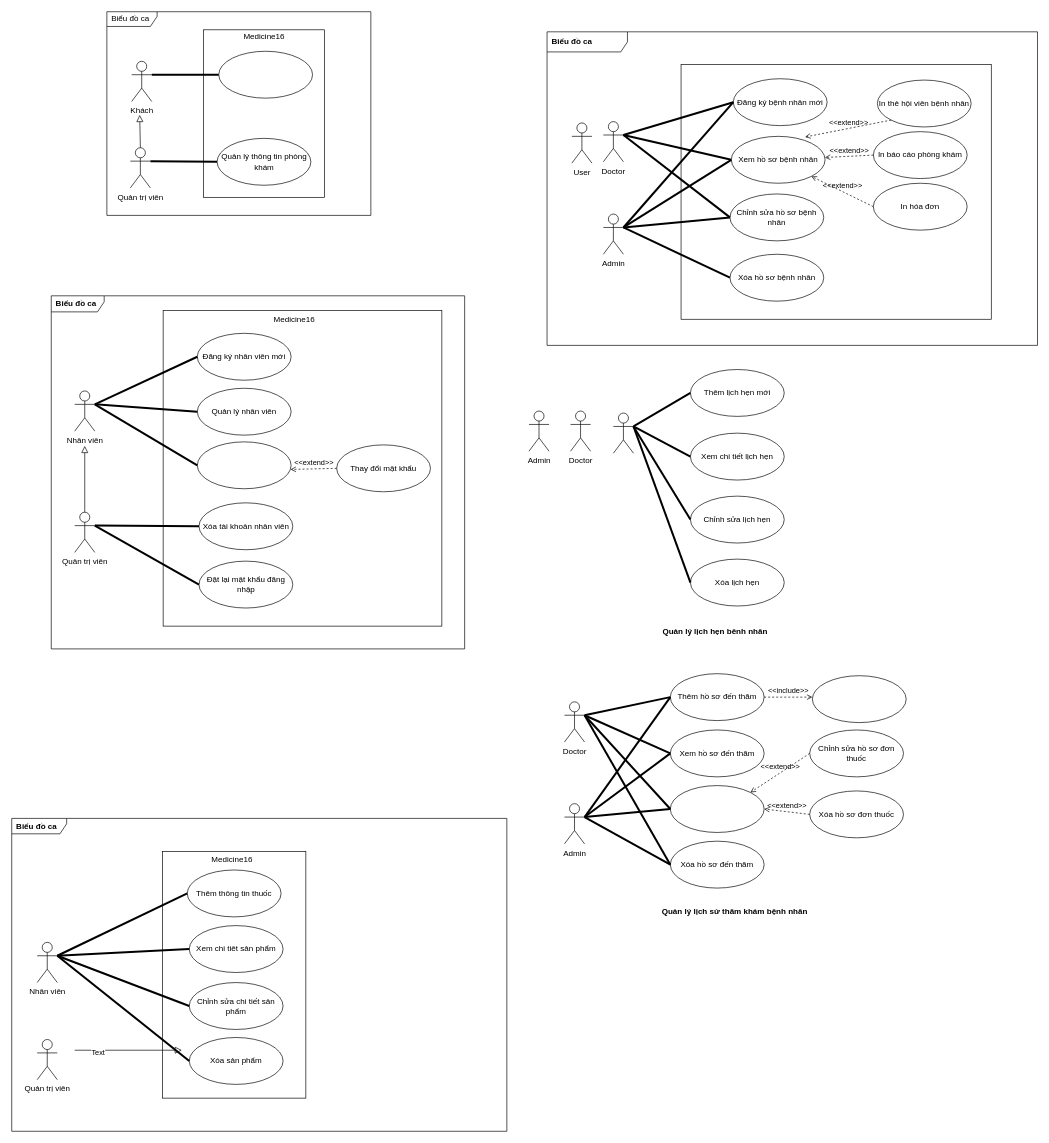
The diagram is 1049 pixels wide and 1143 high, and some of its shapes have lost their labels. The shapes that lost their labels are listed below. From the top down, each one's box as (x1, y1, x2, y2) in pixels, then its label:
(218, 51, 313, 98): Xem thông tin phòng khám
(613, 412, 633, 453): Staff
(197, 441, 291, 489): Quản lý tài khoản
(812, 675, 906, 723): Thêm hồ sơ đơn thuốc
(670, 785, 764, 832): Chỉnh sửa hồ sơ đến thăm
